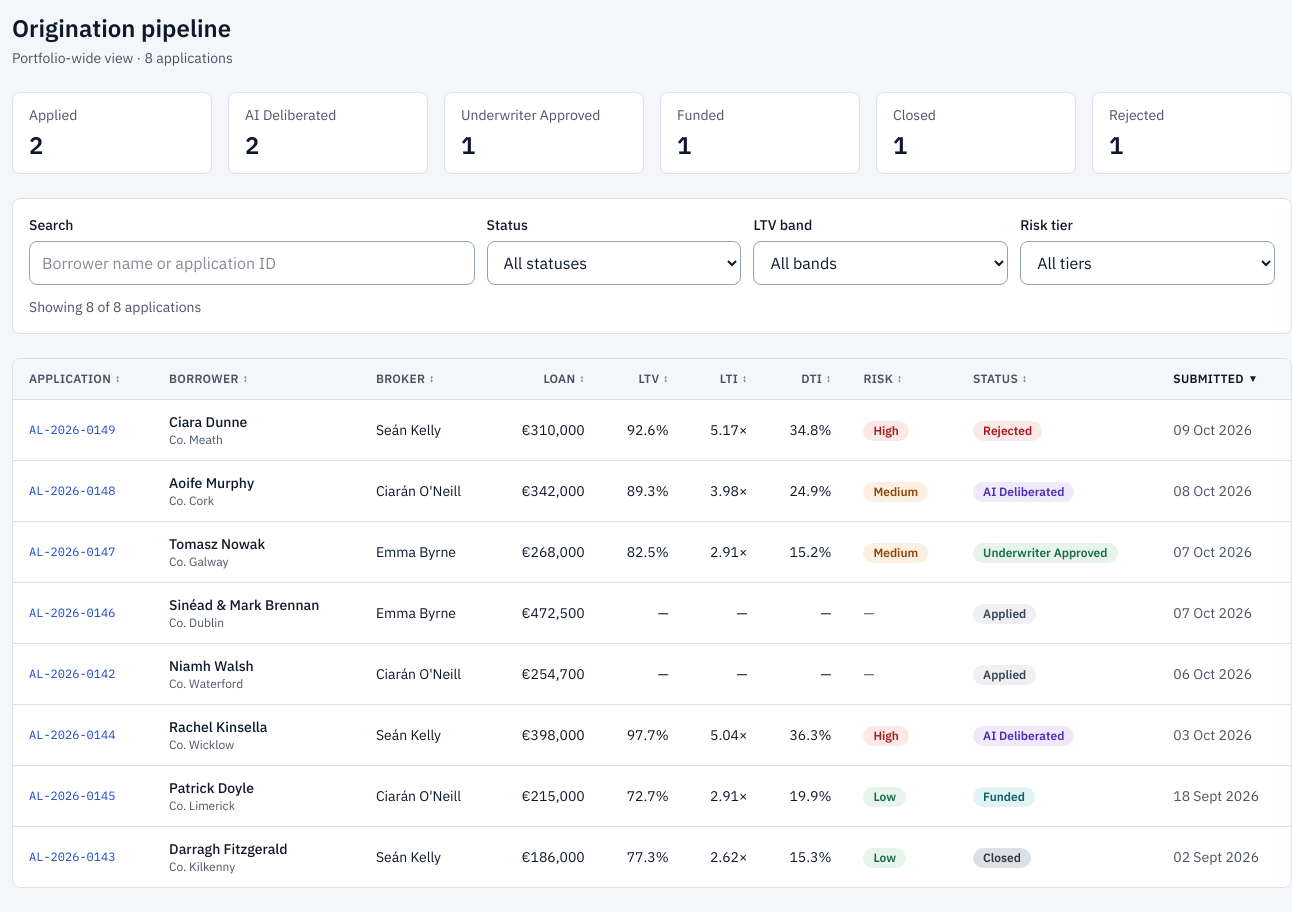
PipelinePage › filters by status and shows the count (WEB-20)
Expected: the text "Tomasz Nowak" is shown, 169,535 -> 265,553
Select "Applied" in the dropdown labelled "Status" at {"x": 614, "y": 263}, box 487,241 -> 741,285
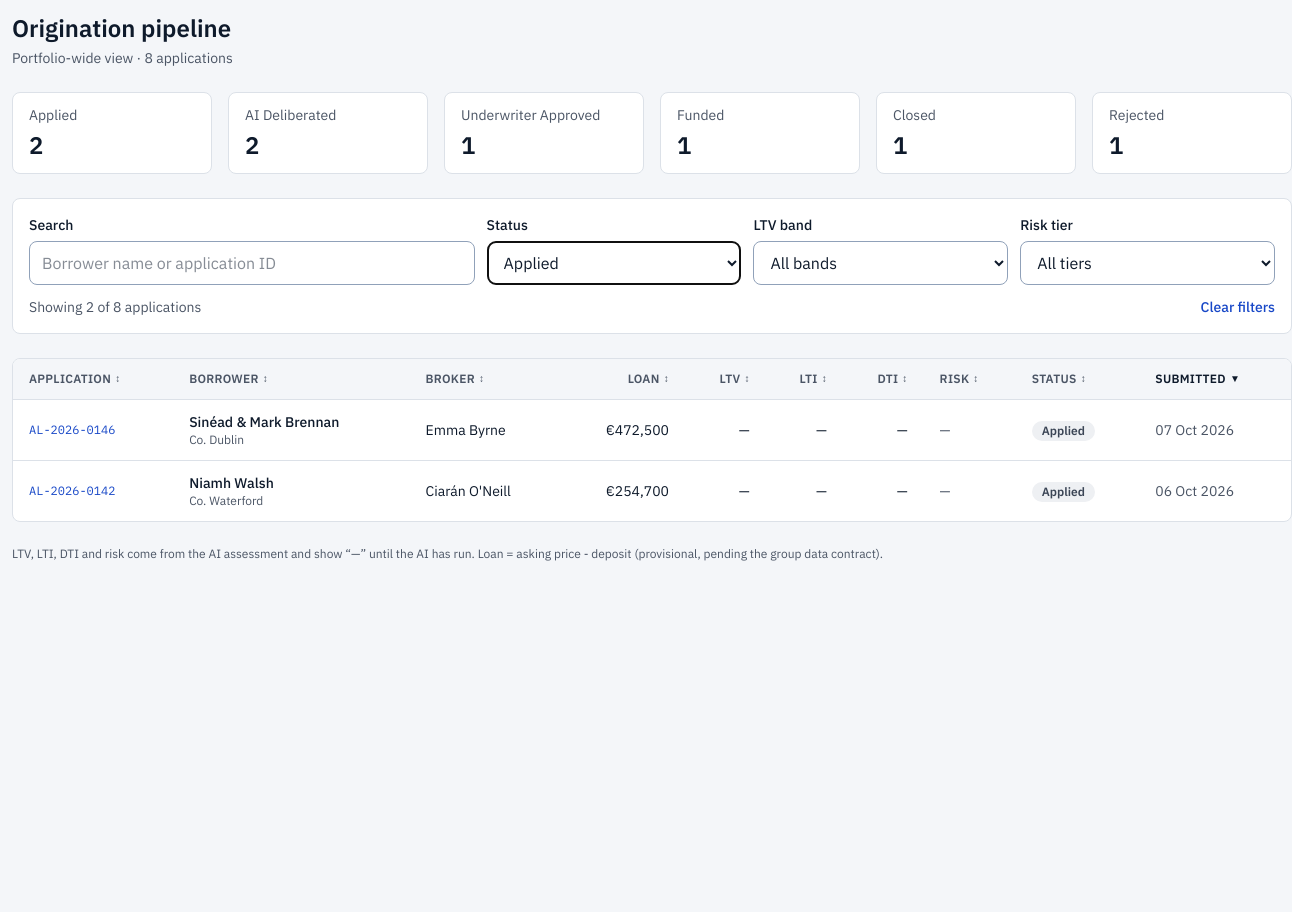
Now the text "Showing 2 of 8 applications" is shown, box 29,297 -> 201,317
